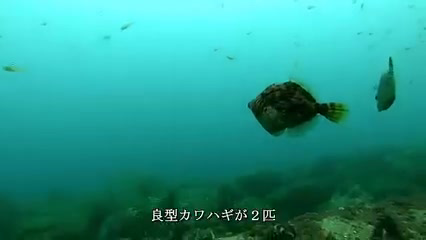kawahagi: (247, 73, 343, 137)
smallfish: (369, 58, 405, 113), (3, 59, 36, 84)
